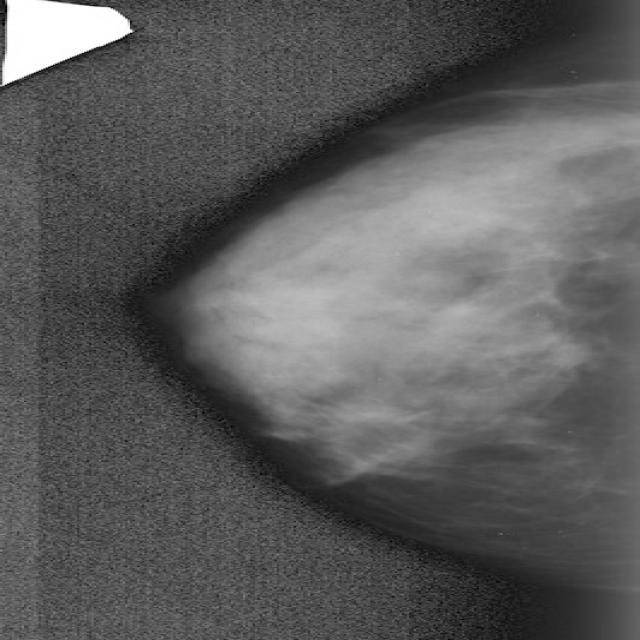tumour: (544, 341, 589, 369)
